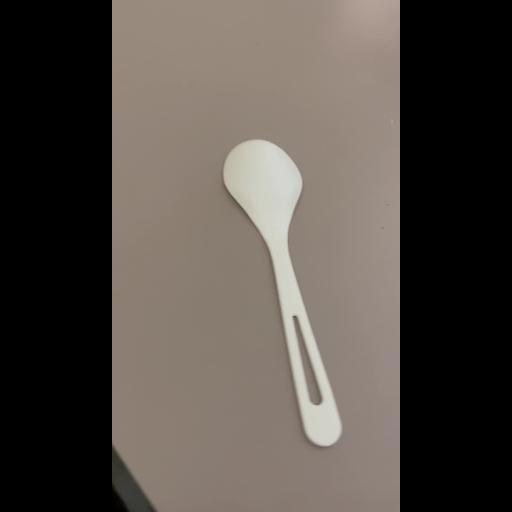utensil: (206, 130, 370, 454)
